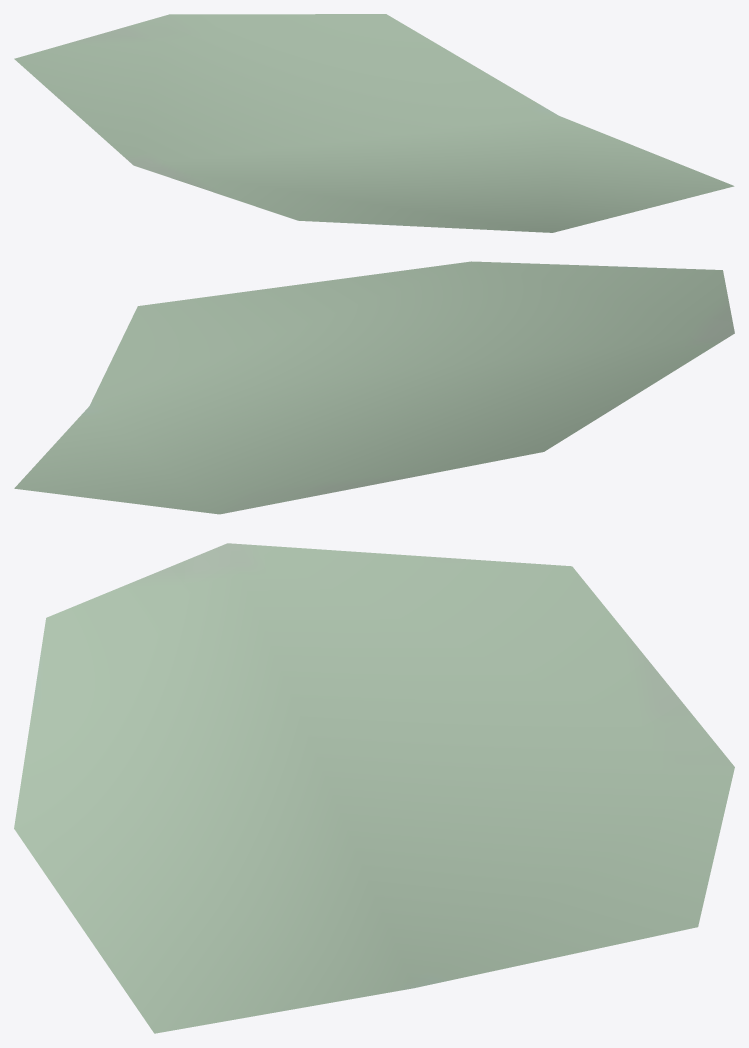
File: TROLLHOLE02_HOLECAP102.fbx
3 views of the same model, one above another, from view 1: azimuth 30°, elevation 25°; view 2: azimuth 150°, elevation 25°; view 3: azimuth 270°, elevation 25° (orthographic). The views are drawn at different scales.
Visible parts, largest first — view 1: TROLLHOLE02_HOLECAP102; view 2: TROLLHOLE02_HOLECAP102; view 3: TROLLHOLE02_HOLECAP102.
Boxes of the visible parts, left/top/right/bottom form: TROLLHOLE02_HOLECAP102: left=14, top=14, right=734, bottom=232; TROLLHOLE02_HOLECAP102: left=14, top=261, right=734, bottom=514; TROLLHOLE02_HOLECAP102: left=14, top=543, right=734, bottom=1033.
Bounding box in the file's own units: 27540 × 6329 × 25537.
1 material, 1 textured.
